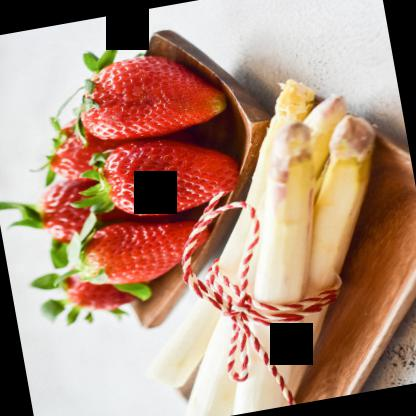strawberry: (73, 40, 233, 148), (90, 122, 248, 224), (61, 208, 208, 293)
